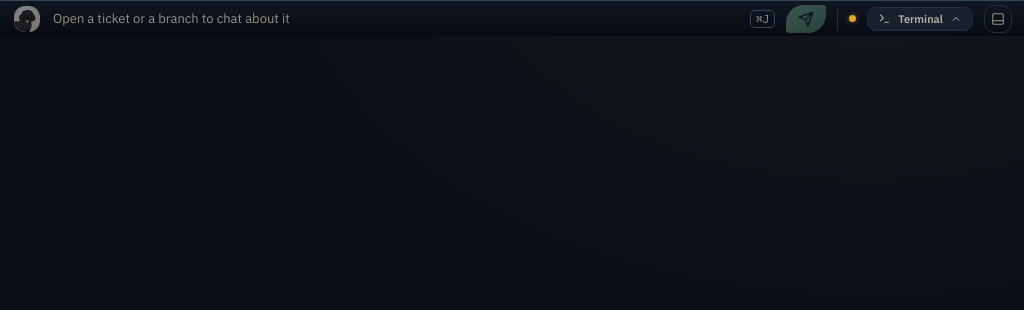
the / menu › leaves /queue out where there is no conversation to queue into
Type "/" into the field with placeholder "Open a ticket or a branch to chat about it" at (395, 18), box top-left (51, 9), bottom-right (739, 28)
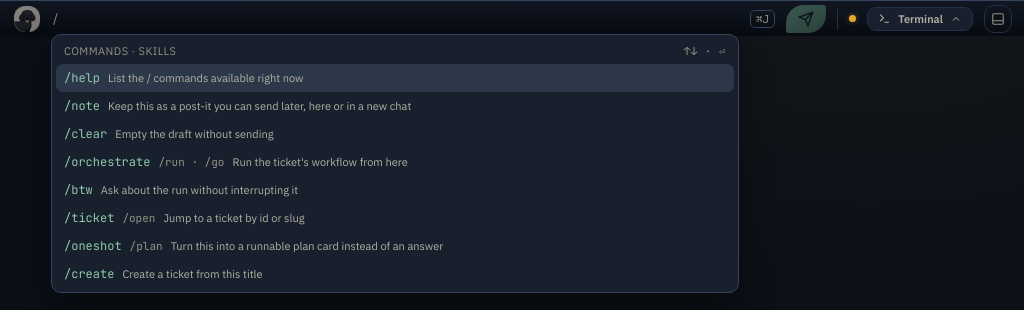
Check: the option "note" is shown, box top-left (56, 92), bottom-right (734, 120)
